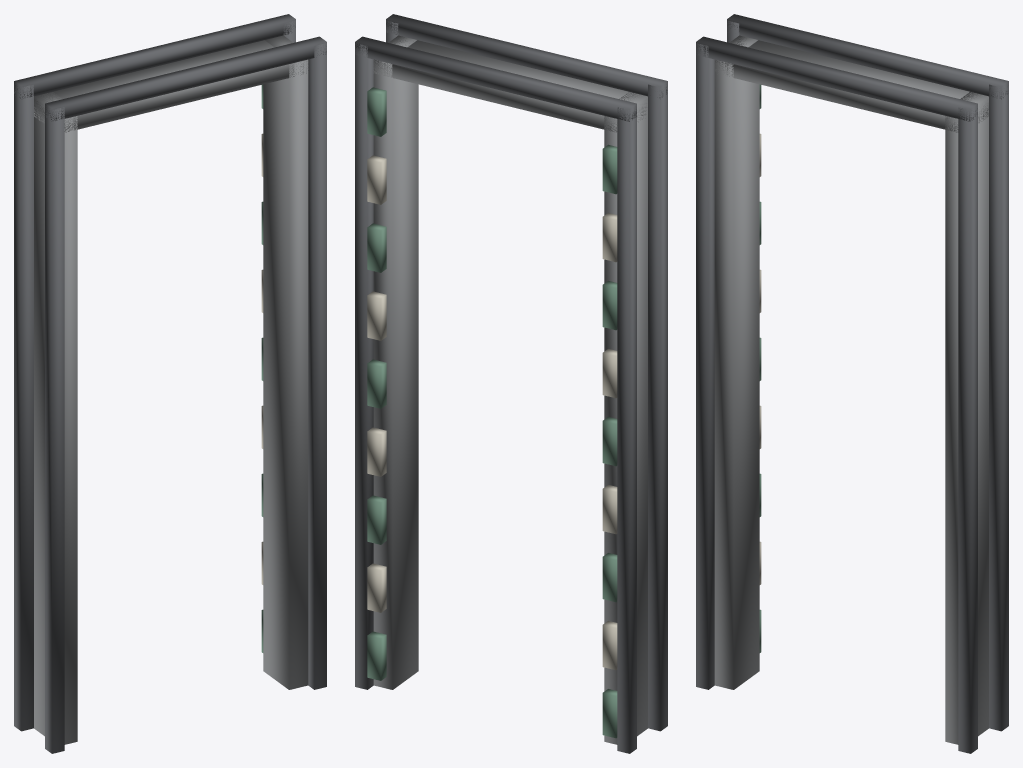
Rendered from doorway_tile_return_w76_h210_d16.glb.
3 renders of one model, left to right at view 1: azimuth 30°, elevation 25°; view 2: azimuth 150°, elevation 25°; view 3: azimuth 330°, elevation 25°, orthographic.
Parts seen in each view (by area): view 1: world; view 2: world; view 3: world.
Part boxes in pixels (left/top/right/bottom): world: left=14, top=14, right=326, bottom=753; world: left=355, top=14, right=667, bottom=753; world: left=696, top=14, right=1008, bottom=753.
Size of the model in its own units: 0.9868 by 2.21 by 0.2407.
